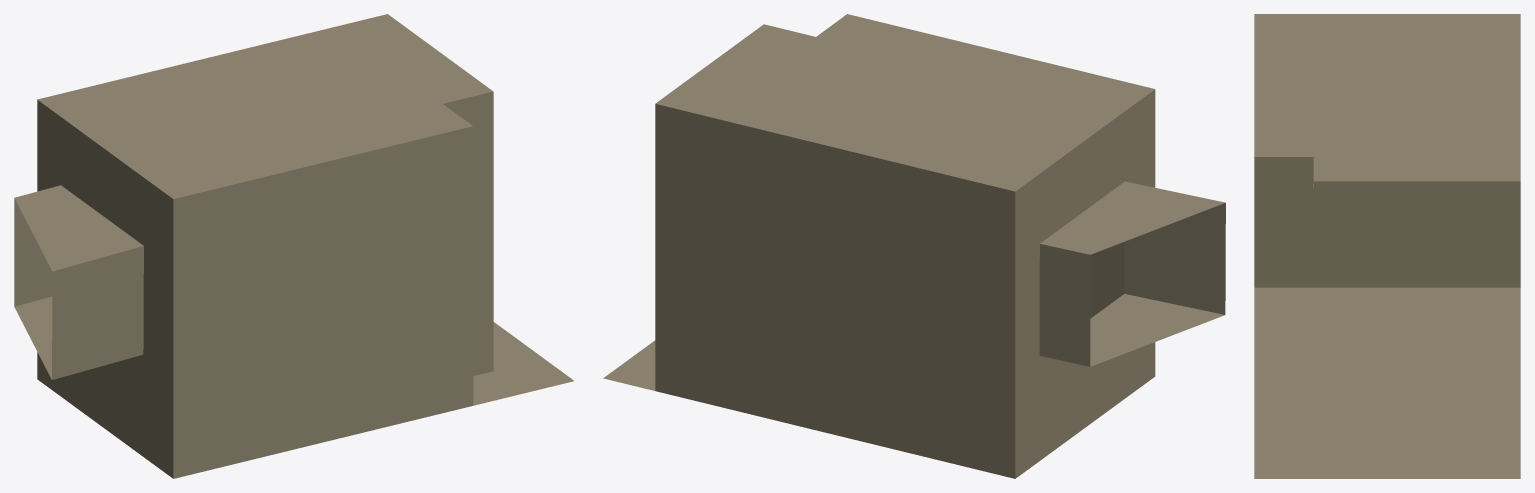
Rendered from Hab2.glb.
3 views of the same model, side by side, from view 1: azimuth 30°, elevation 25°; view 2: azimuth 150°, elevation 25°; view 3: azimuth 270°, elevation 25° (orthographic). The views are drawn at different scales.
Visible parts, largest first — view 1: Hab1; view 2: Hab1; view 3: Hab1.
Boxes of the visible parts, x1,y1,x2,y2 form: Hab1: (14,14,573,478); Hab1: (603,14,1225,478); Hab1: (1254,14,1520,478).
Bounding box in the file's own units: 4.2 × 2.26 × 2.
